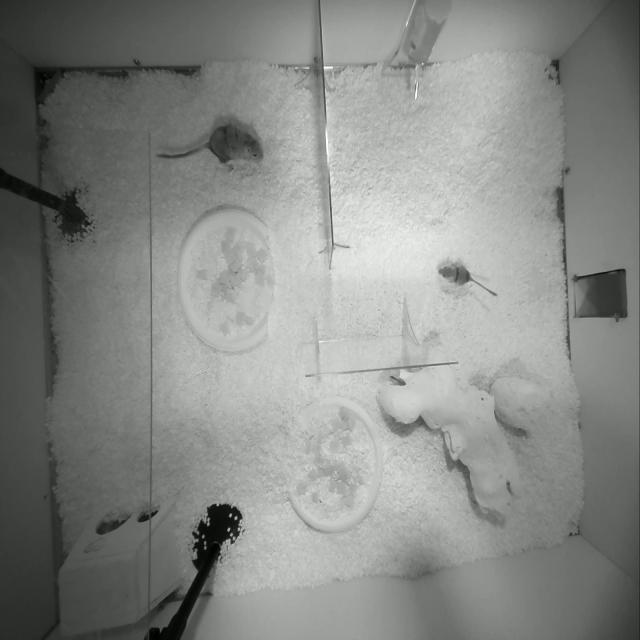adult_back: (156, 123, 263, 163)
pup_h_stripe: (438, 263, 497, 295)
